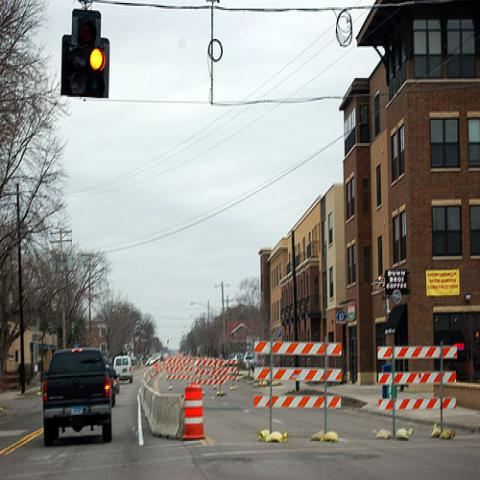car: (112, 356, 132, 384), (105, 368, 120, 394)
truck: (41, 348, 113, 448)
